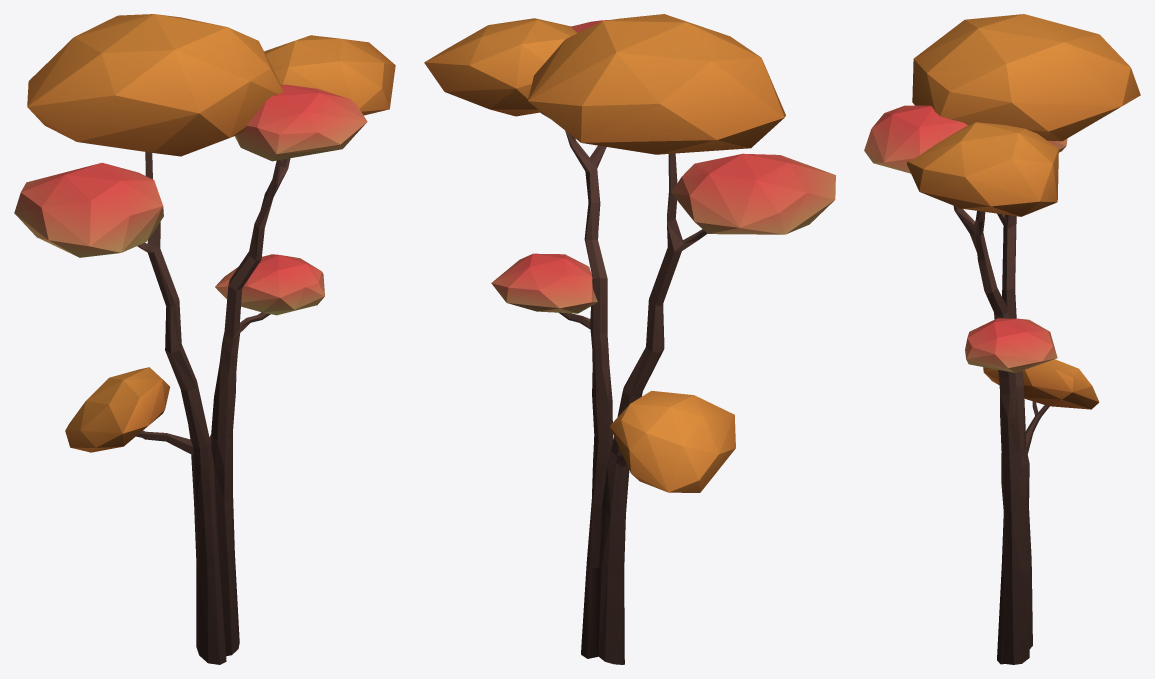
Rendered from ZLP_Plant_F_5.FBX.
The picture shows the model from 3 angles, left to right: view 1: azimuth 30°, elevation 25°; view 2: azimuth 150°, elevation 25°; view 3: azimuth 270°, elevation 25°; orthographic projection. The views are drawn at different scales.
Visible parts, largest first — view 1: ZLP_Plant_F_5; view 2: ZLP_Plant_F_5; view 3: ZLP_Plant_F_5.
Boxes of the visible parts, left/top/right/bottom form: ZLP_Plant_F_5: left=14, top=14, right=395, bottom=664; ZLP_Plant_F_5: left=424, top=14, right=835, bottom=664; ZLP_Plant_F_5: left=864, top=14, right=1140, bottom=664.
Bounding box in the file's own units: 256 × 427 × 177.
